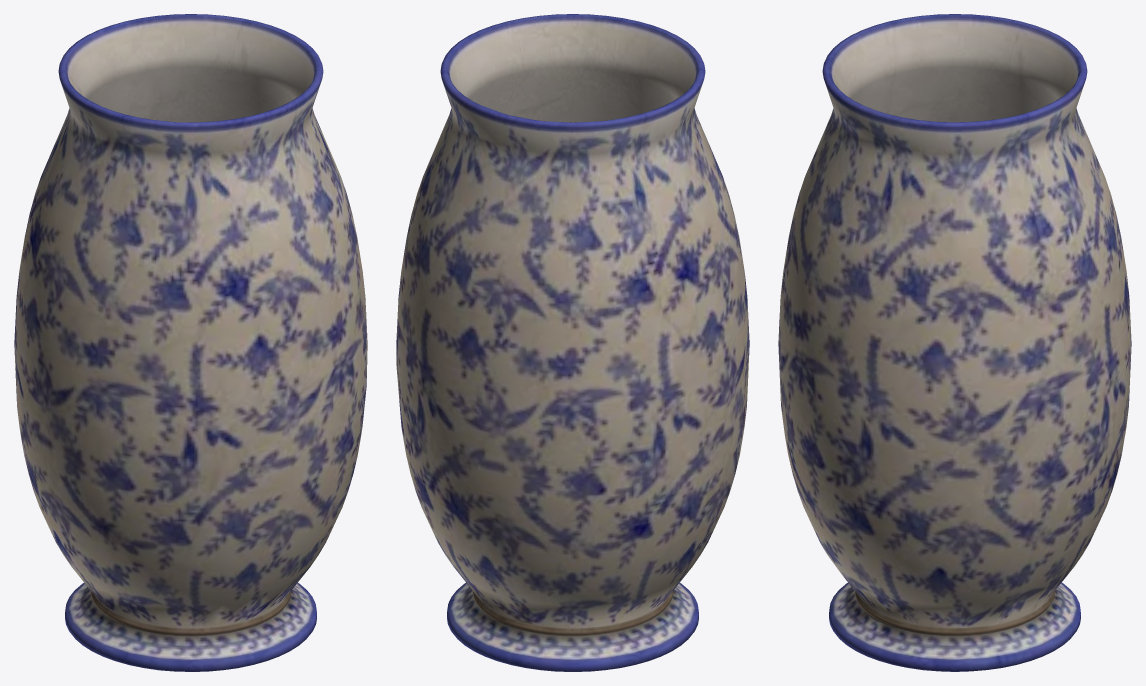
File: antique_ceramic_vase_01.glb
The picture shows the model from 3 angles, left to right: view 1: azimuth 30°, elevation 25°; view 2: azimuth 150°, elevation 25°; view 3: azimuth 270°, elevation 25°; orthographic projection.
Parts seen in each view (by area): view 1: antique_ceramic_vase_01; view 2: antique_ceramic_vase_01; view 3: antique_ceramic_vase_01.
Boxes of the visible parts, x1=… form: antique_ceramic_vase_01: x1=14, y1=14, x2=367, y2=671; antique_ceramic_vase_01: x1=396, y1=14, x2=749, y2=671; antique_ceramic_vase_01: x1=778, y1=14, x2=1131, y2=671.
Size of the model in its own units: 0.255 by 0.4396 by 0.255.
1 material, 1 textured.
